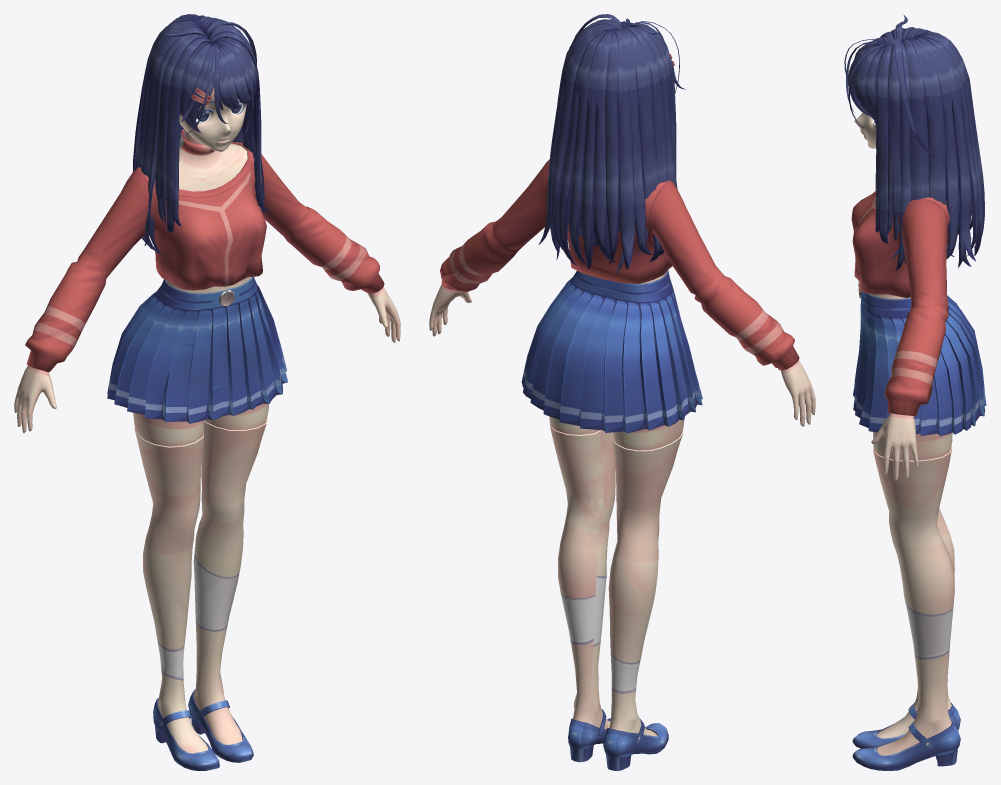
File: kind_mita.glb
3 renders of one model, left to right at view 1: azimuth 30°, elevation 25°; view 2: azimuth 150°, elevation 25°; view 3: azimuth 270°, elevation 25°, orthographic.
Visible parts, largest first — view 1: Sweater_1_003, Pantyhose_002, Skirt_003, Hairs_002, Body_002, Shoes_002, Head_1_002; view 2: Hairs_002, Pantyhose_002, Skirt_003, Sweater_1_003, Body_002, Shoes_002; view 3: Hairs_002, Pantyhose_002, Sweater_1_003, Skirt_003, Shoes_002, Body_002, Head_1_002.
Boxes of the visible parts, bbox=[...] form: Sweater_1_003: bbox=[25, 129, 384, 372]; Pantyhose_002: bbox=[134, 416, 267, 753]; Skirt_003: bbox=[107, 276, 287, 423]; Hairs_002: bbox=[133, 14, 269, 255]; Body_002: bbox=[14, 129, 400, 446]; Shoes_002: bbox=[153, 689, 253, 770]; Head_1_002: bbox=[179, 87, 246, 151]; Hairs_002: bbox=[538, 14, 686, 274]; Pantyhose_002: bbox=[549, 421, 682, 735]; Skirt_003: bbox=[521, 270, 702, 433]; Sweater_1_003: bbox=[440, 159, 799, 370]; Body_002: bbox=[429, 272, 815, 450]; Shoes_002: bbox=[568, 709, 668, 770]; Hairs_002: bbox=[844, 14, 984, 270]; Pantyhose_002: bbox=[873, 446, 954, 755]; Sweater_1_003: bbox=[851, 191, 949, 416]; Skirt_003: bbox=[853, 281, 986, 436]; Shoes_002: bbox=[852, 703, 960, 770]; Body_002: bbox=[869, 293, 952, 480]; Head_1_002: bbox=[854, 112, 876, 148].
Bounding box in the file's own units: 1.74 × 3.22 × 0.5752.
Materials: 5 (4 with a texture image).
